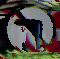Don't turn left: (7, 2, 55, 53)
